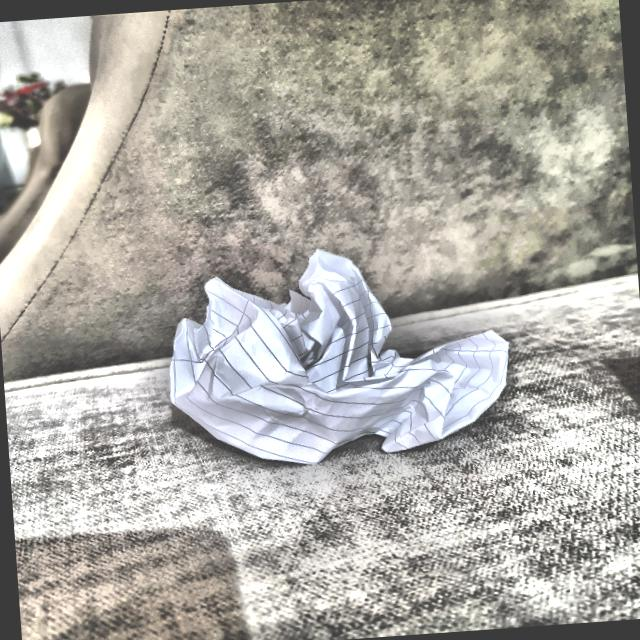Paper: (145, 238, 518, 476)
